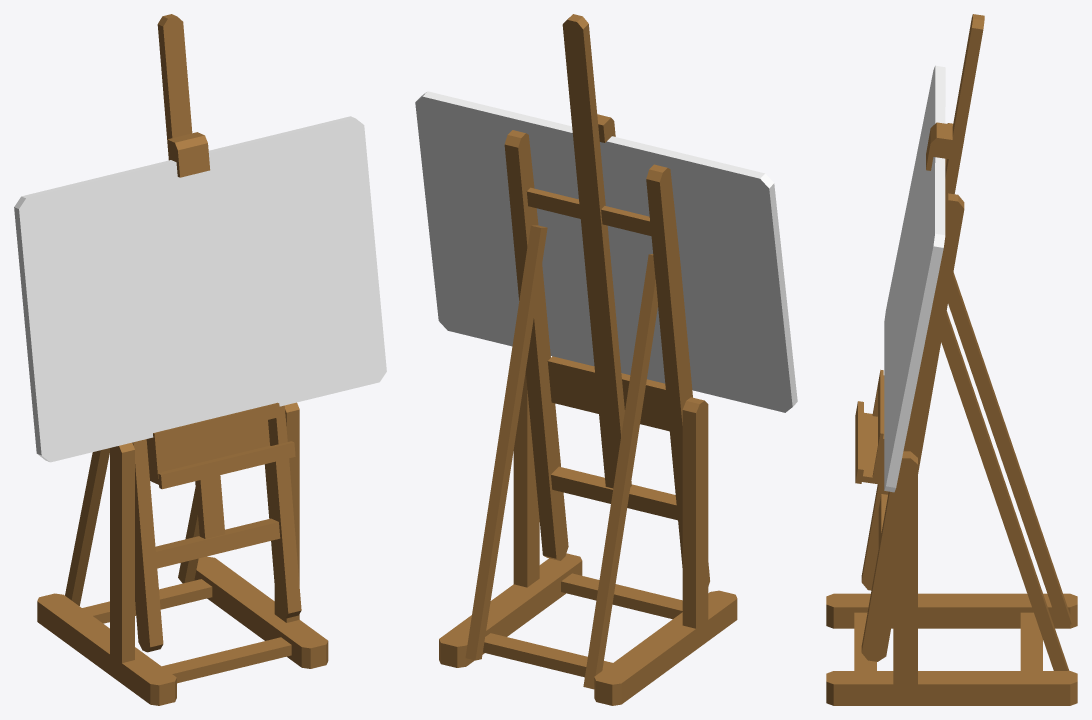
Rendered from furniture_stand-easel-canvas-horizontal-blank.fbx.
3 renders of one model, left to right at view 1: azimuth 30°, elevation 25°; view 2: azimuth 150°, elevation 25°; view 3: azimuth 270°, elevation 25°, orthographic. The views are drawn at different scales.
Visible parts, largest first — view 1: furniture_stand_easel_canvas_horizontal_blank; view 2: furniture_stand_easel_canvas_horizontal_blank; view 3: furniture_stand_easel_canvas_horizontal_blank.
Part boxes in pixels (left/top/right/bottom): furniture_stand_easel_canvas_horizontal_blank: left=14, top=14, right=386, bottom=705; furniture_stand_easel_canvas_horizontal_blank: left=415, top=14, right=797, bottom=705; furniture_stand_easel_canvas_horizontal_blank: left=826, top=14, right=1077, bottom=705.
Size of the model in its own units: 117 by 200 by 70.64.
